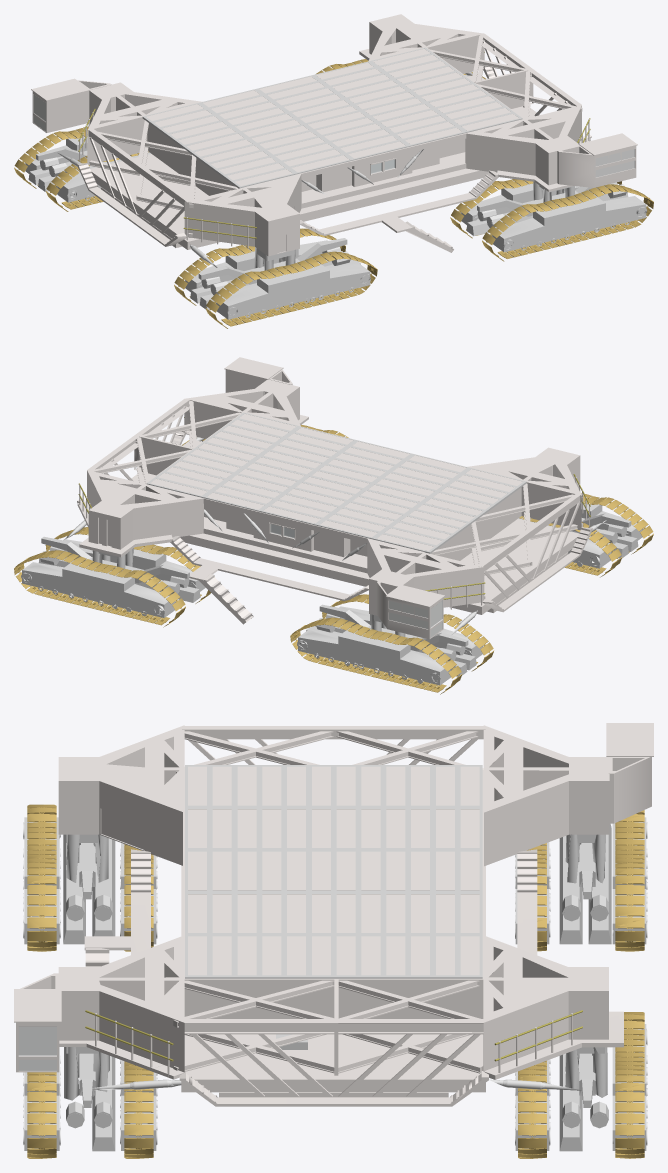
Rendered from space-crawler.glb.
The picture shows the model from 3 angles, top to bottom: view 1: azimuth 30°, elevation 25°; view 2: azimuth 150°, elevation 25°; view 3: azimuth 270°, elevation 25°; orthographic projection. The views are drawn at different scales.
Parts seen in each view (by area): view 1: polySurface1; view 2: polySurface1; view 3: polySurface1.
Part boxes in pixels (left/top/right/bottom): polySurface1: left=14, top=14, right=653, bottom=328; polySurface1: left=14, top=357, right=653, bottom=694; polySurface1: left=14, top=723, right=653, bottom=1158.
Bounding box in the file's own units: 8.77 × 1.7 × 7.2.
2 materials, 2 textured.
